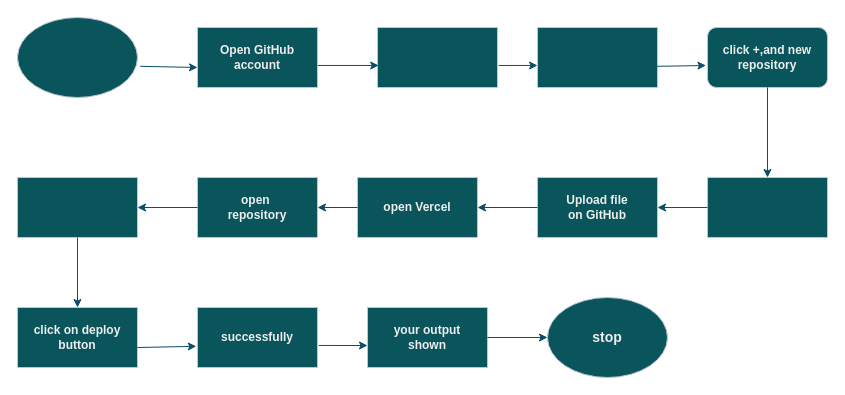
This 845x395 diagram has some shape labels left out. Here are the shapes that lost their labels. From the top down, the centre of each, then its label:
At (x=77, y=57): "Start".
At (x=437, y=57): "login your account".
At (x=597, y=57): "create new repository".
At (x=77, y=207): "select index.html file".
At (x=767, y=207): "Write html code on notepad".
